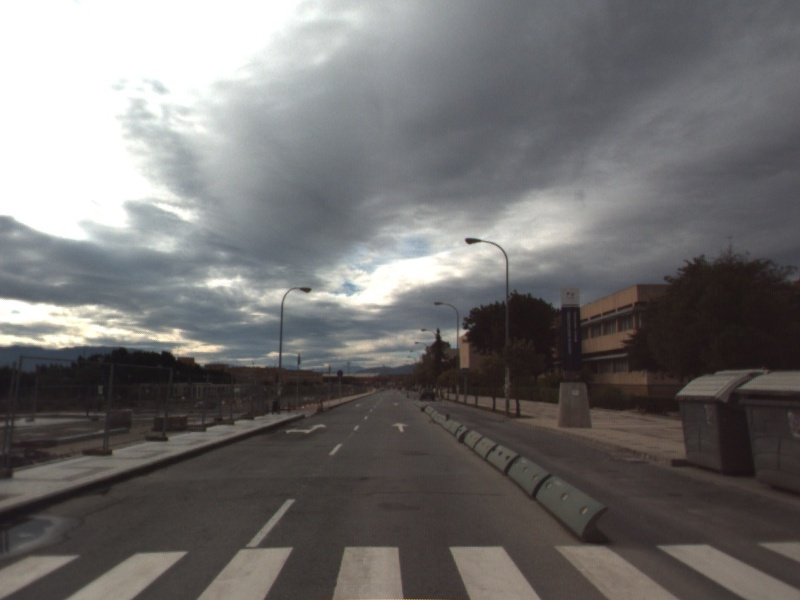STRAIGHT: (390, 420, 411, 434)
STRAIGHT_LEFT: (283, 421, 329, 436)
